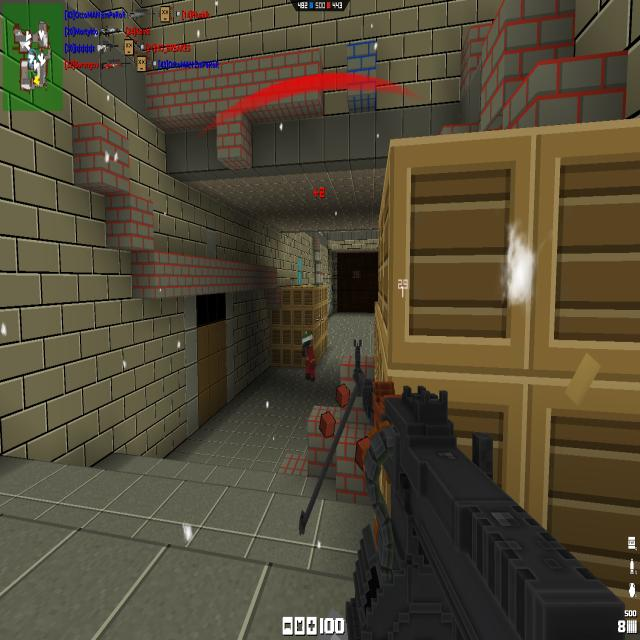player: (302, 332, 316, 381)
